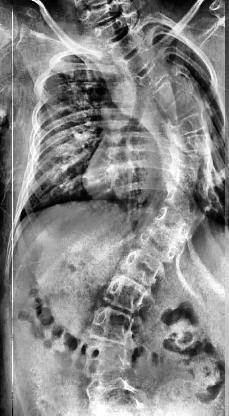Vertebrae: (86, 306, 146, 344), (80, 340, 140, 378), (153, 182, 209, 222), (145, 204, 201, 244), (100, 274, 154, 312), (124, 227, 184, 261), (117, 249, 169, 286), (160, 166, 216, 200), (82, 371, 140, 403), (145, 75, 193, 109), (102, 29, 152, 60), (115, 43, 163, 74), (164, 146, 216, 174), (129, 60, 175, 90), (86, 18, 142, 40), (156, 94, 202, 120), (172, 129, 216, 155), (80, 2, 130, 24), (171, 111, 213, 135)
